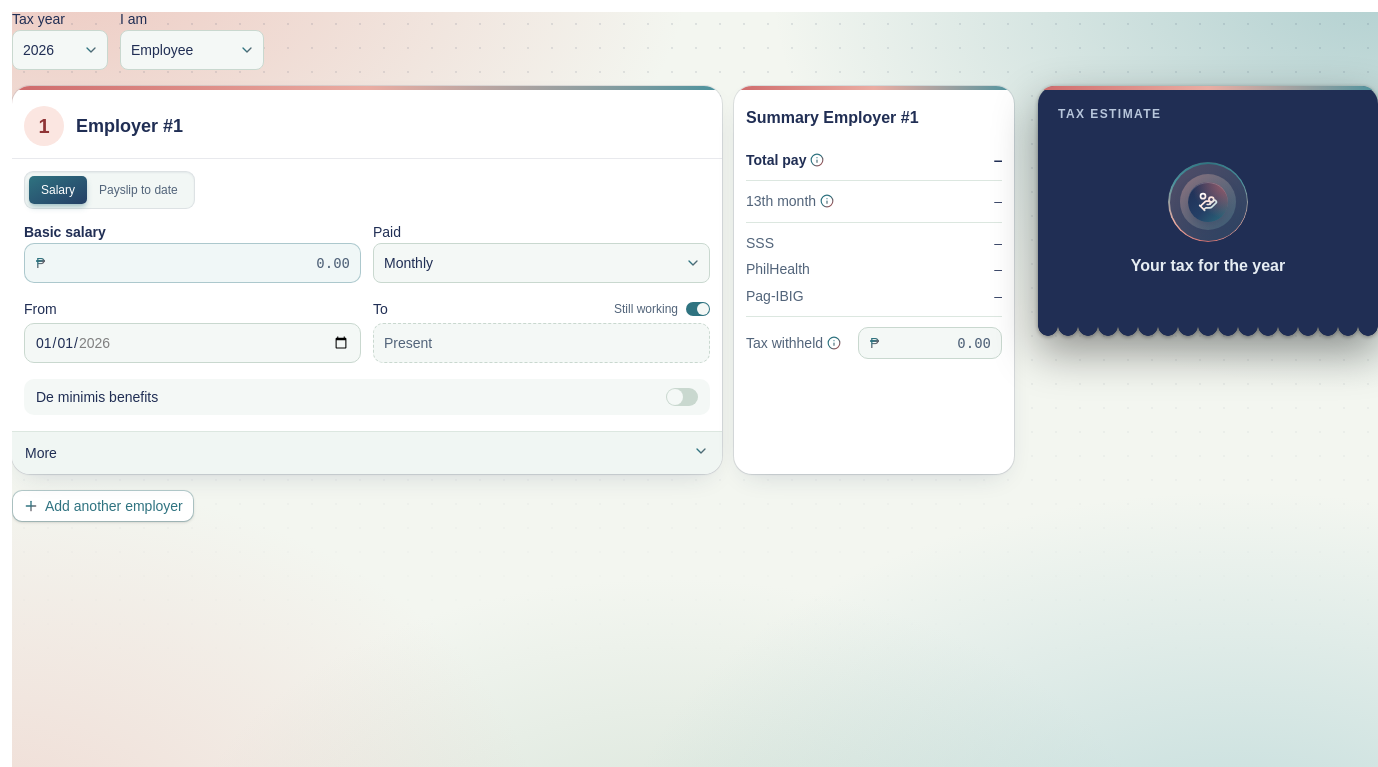
Scenario: MyYear: the estimate › uses the tax year that was picked
In the field labelled "Basic salary": (192, 263) left=24, top=243, right=361, bottom=283, type "50000"
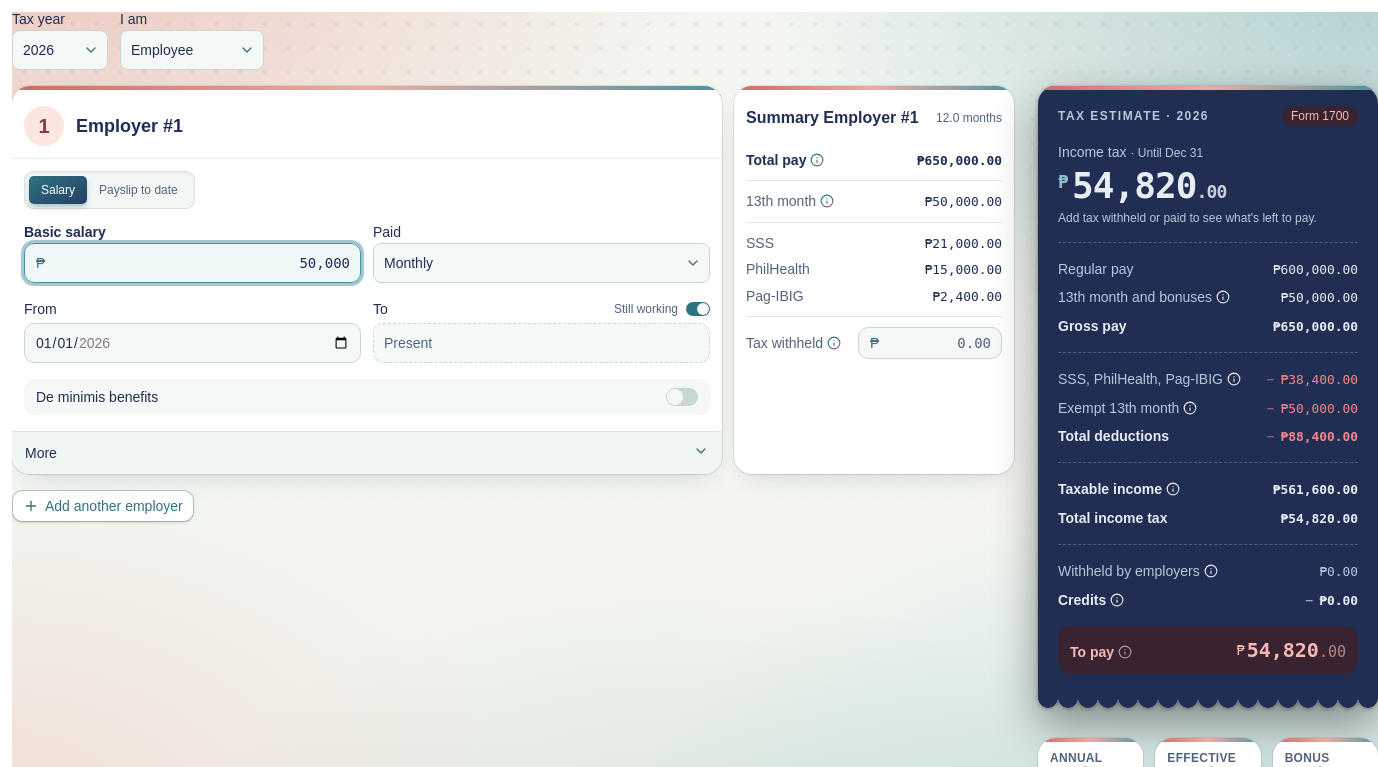
Click the dropdown named "Tax year": (60, 50) left=12, top=30, right=108, bottom=70
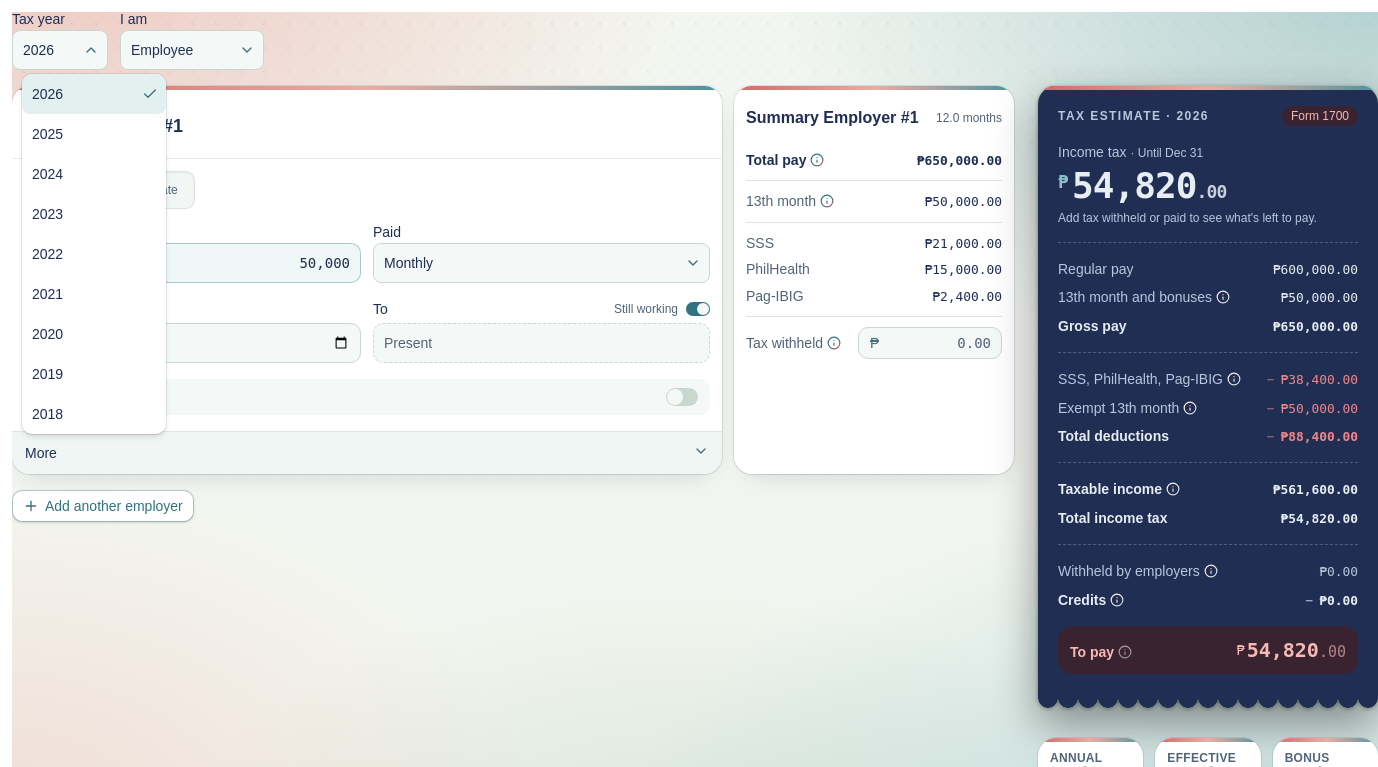
Click the option "2024": (48, 174) left=32, top=166, right=63, bottom=182
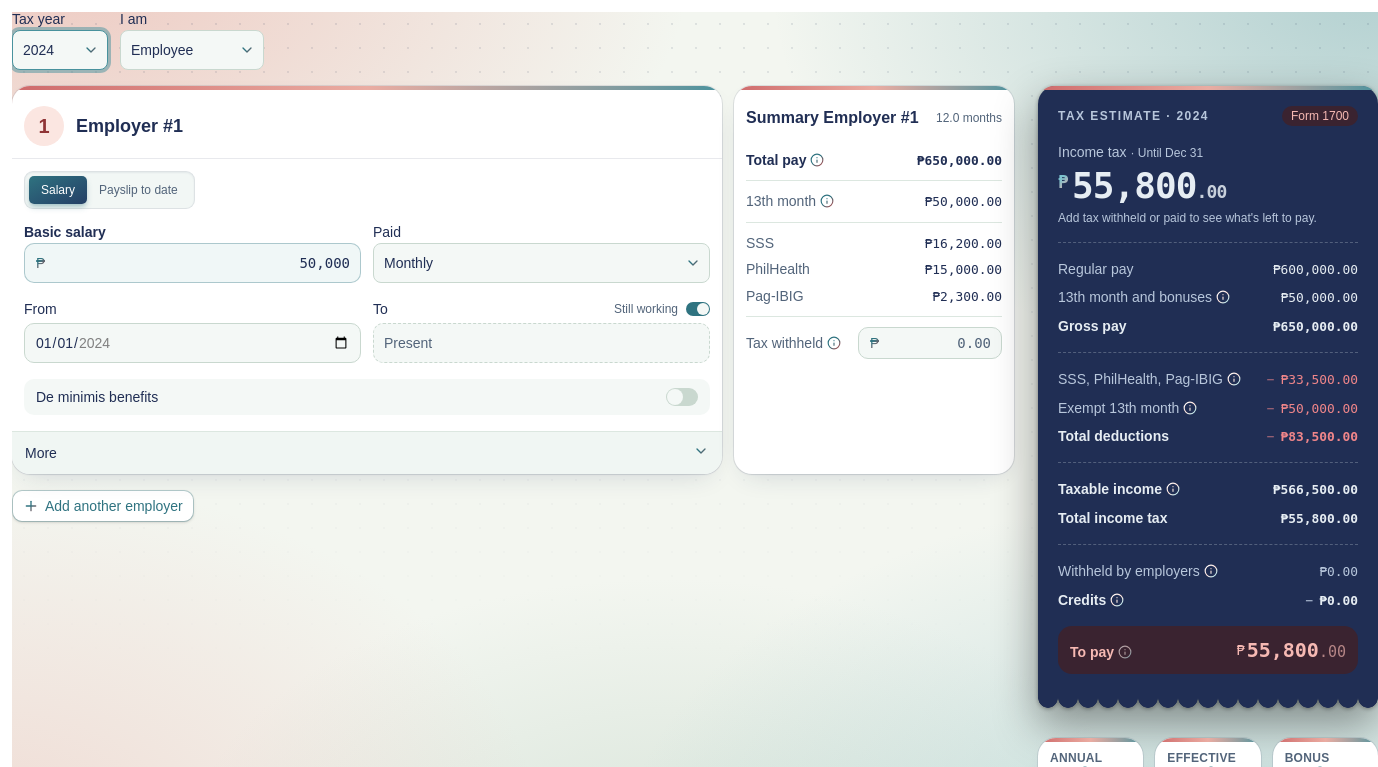
Now the text "Tax estimate · 2024" is shown, box left=1058, top=108, right=1209, bottom=124
